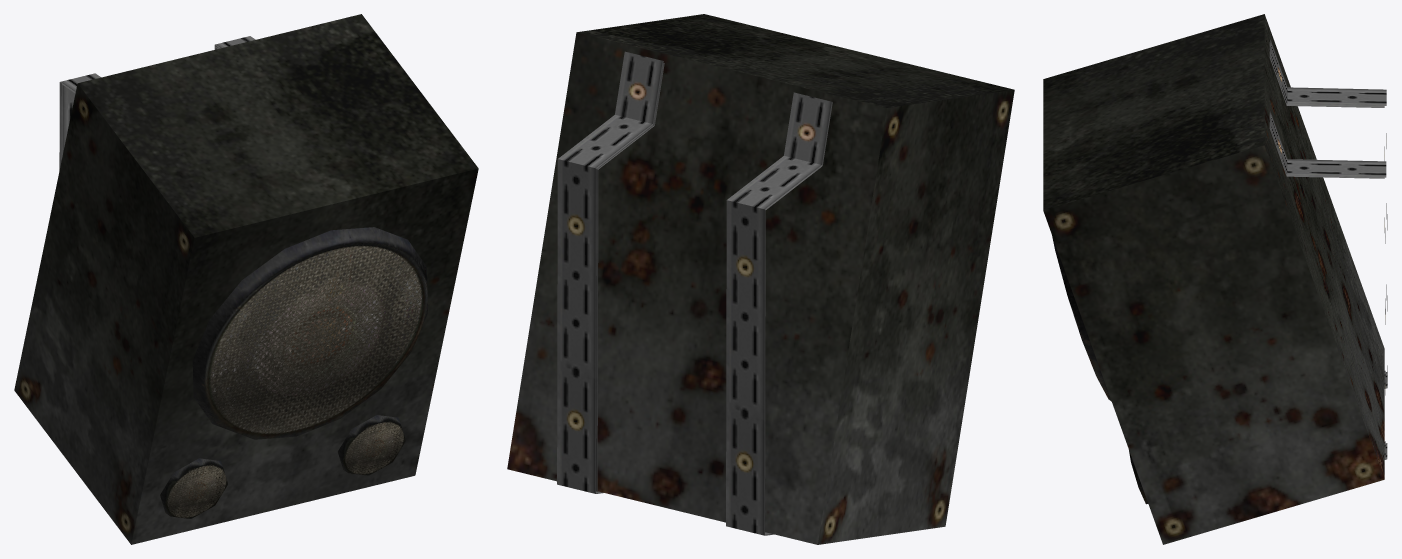
The model's file is tech_speaker.dae.
The picture shows the model from 3 angles, left to right: view 1: azimuth 30°, elevation 25°; view 2: azimuth 150°, elevation 25°; view 3: azimuth 270°, elevation 25°; orthographic projection. The views are drawn at different scales.
Parts seen in each view (by area): view 1: polySurface9; view 2: polySurface9; view 3: polySurface9.
Part boxes in pixels (<box>): polySurface9: <box>14,14,478,544</box>; polySurface9: <box>507,14,1014,544</box>; polySurface9: <box>1043,14,1387,544</box>.
Size of what is drawn, in the model's own units: 0.4 by 0.5682 by 0.444.
